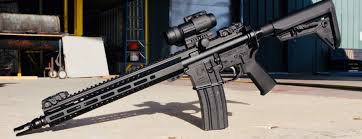gun: (12, 0, 341, 133)
